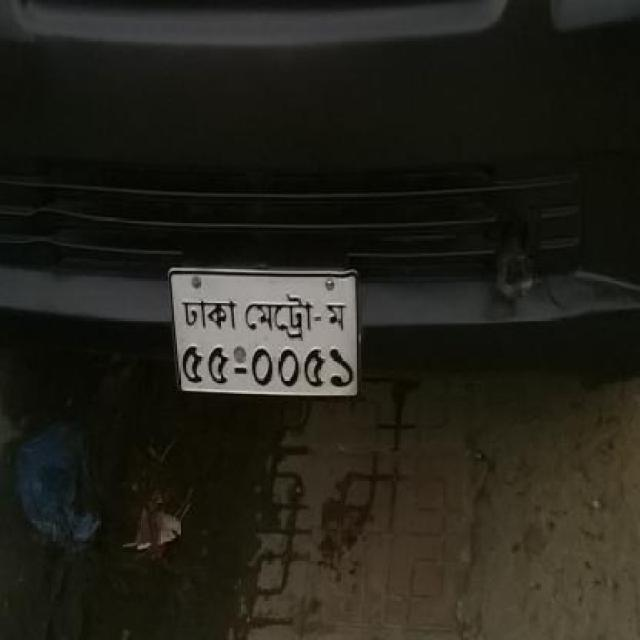numberplate: (167, 265, 360, 398)
